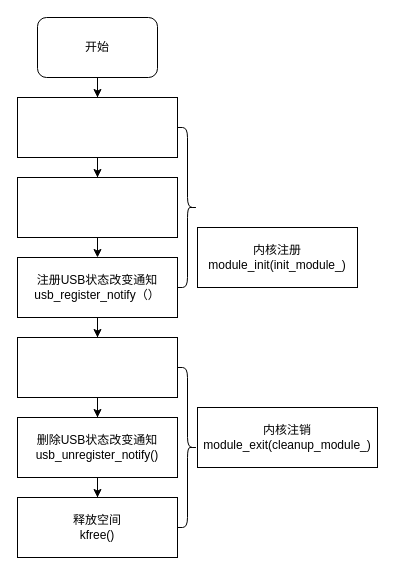
Image size: 395x575. Some labels were removed from this diagram. Each missing label, with the centre of its shape:
创建虚拟文件 proc_create（）: pixel 97 207
删除虚拟文件 remove_proc_entry(): pixel 97 367
向内核申请空间 kzalloc(): pixel 97 127
